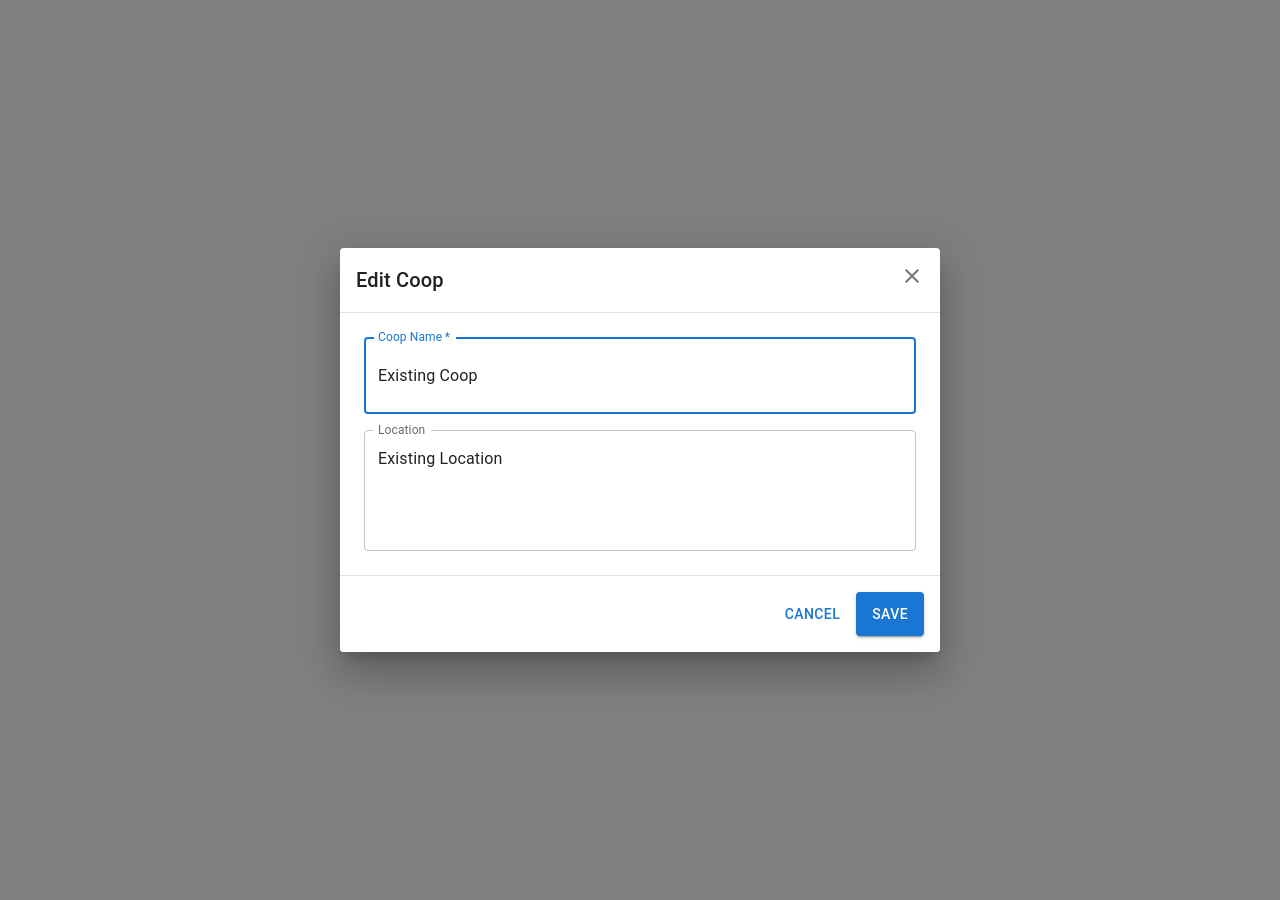
EditCoopModal › Form Validation › should show required error when name is empty and field is blurred
Step 1. Clear the field labelled "Coop Name *" → (640, 376), box x1=364 y1=337 x2=916 y2=414
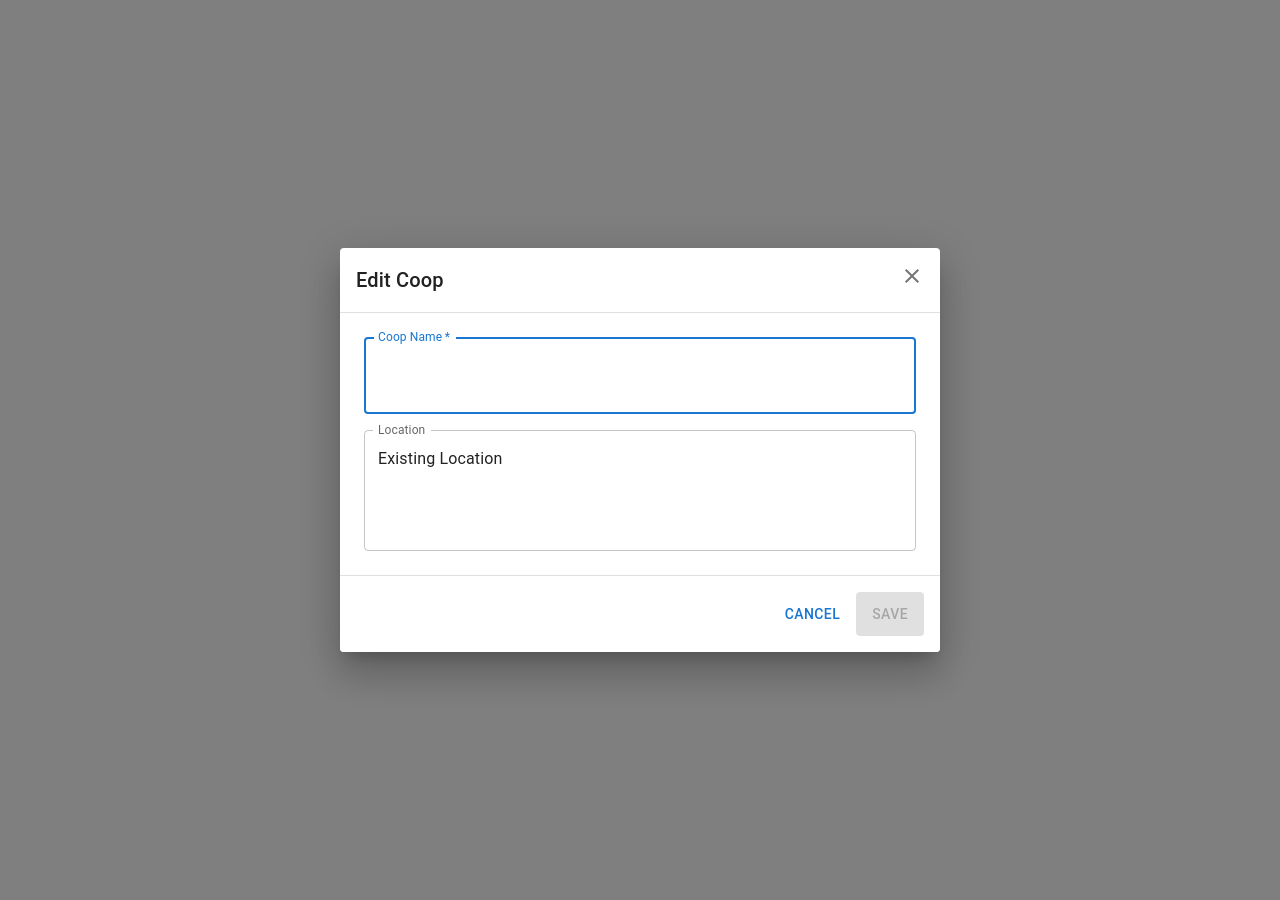
Step 2. Press Tab
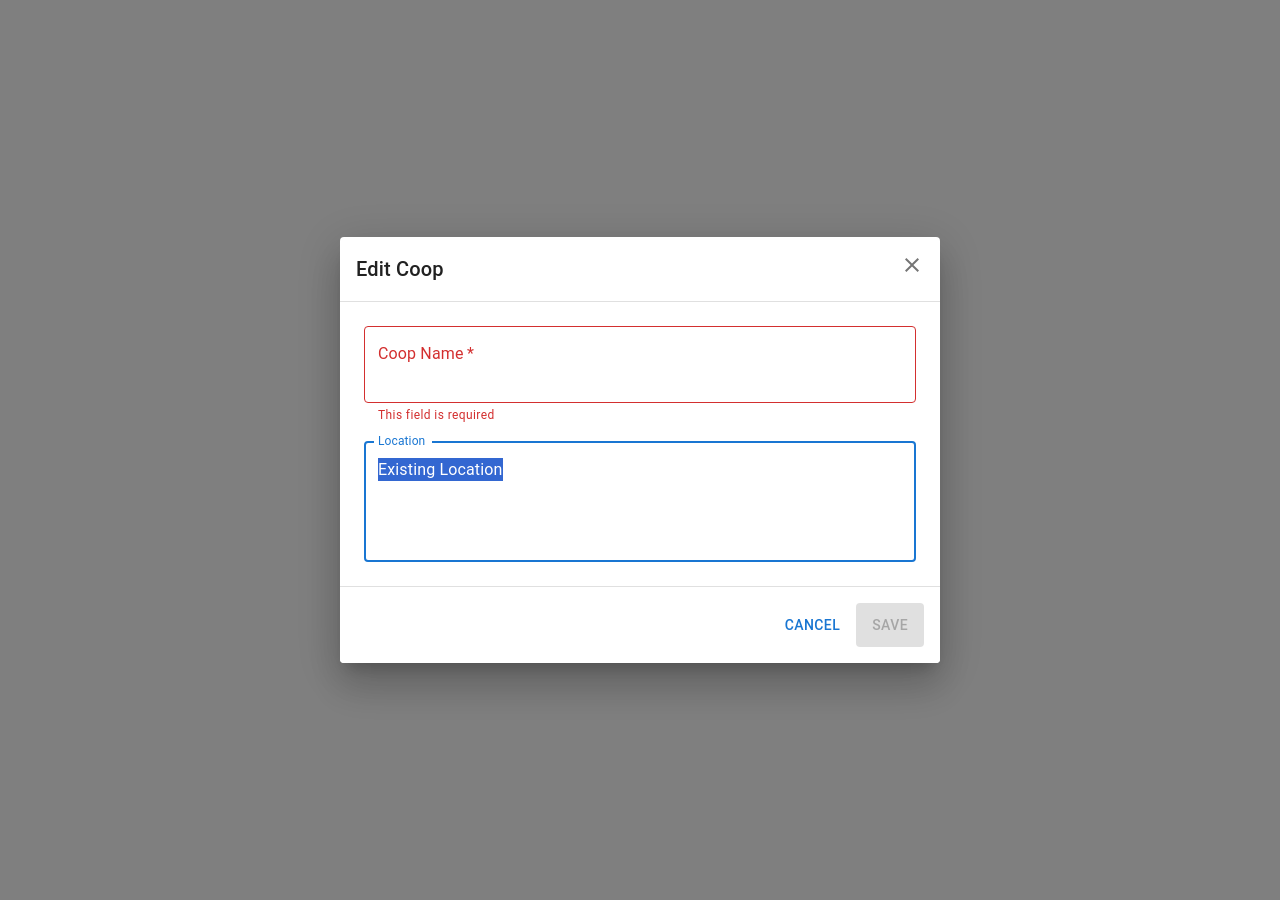
Result: the text "This field is required" is shown at x1=378 y1=408 x2=495 y2=422
